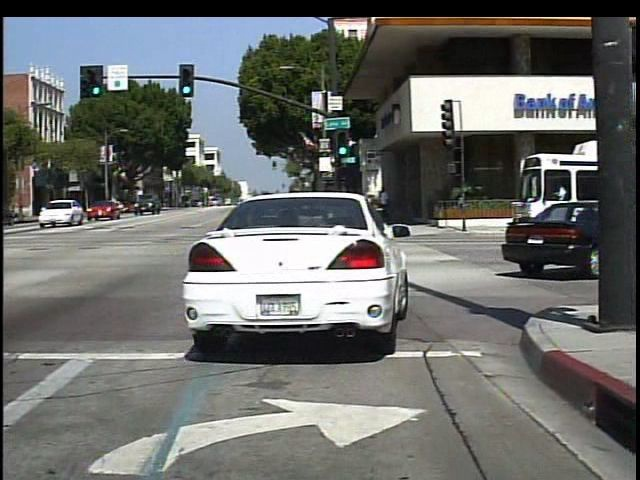person: (376, 183, 395, 224)
